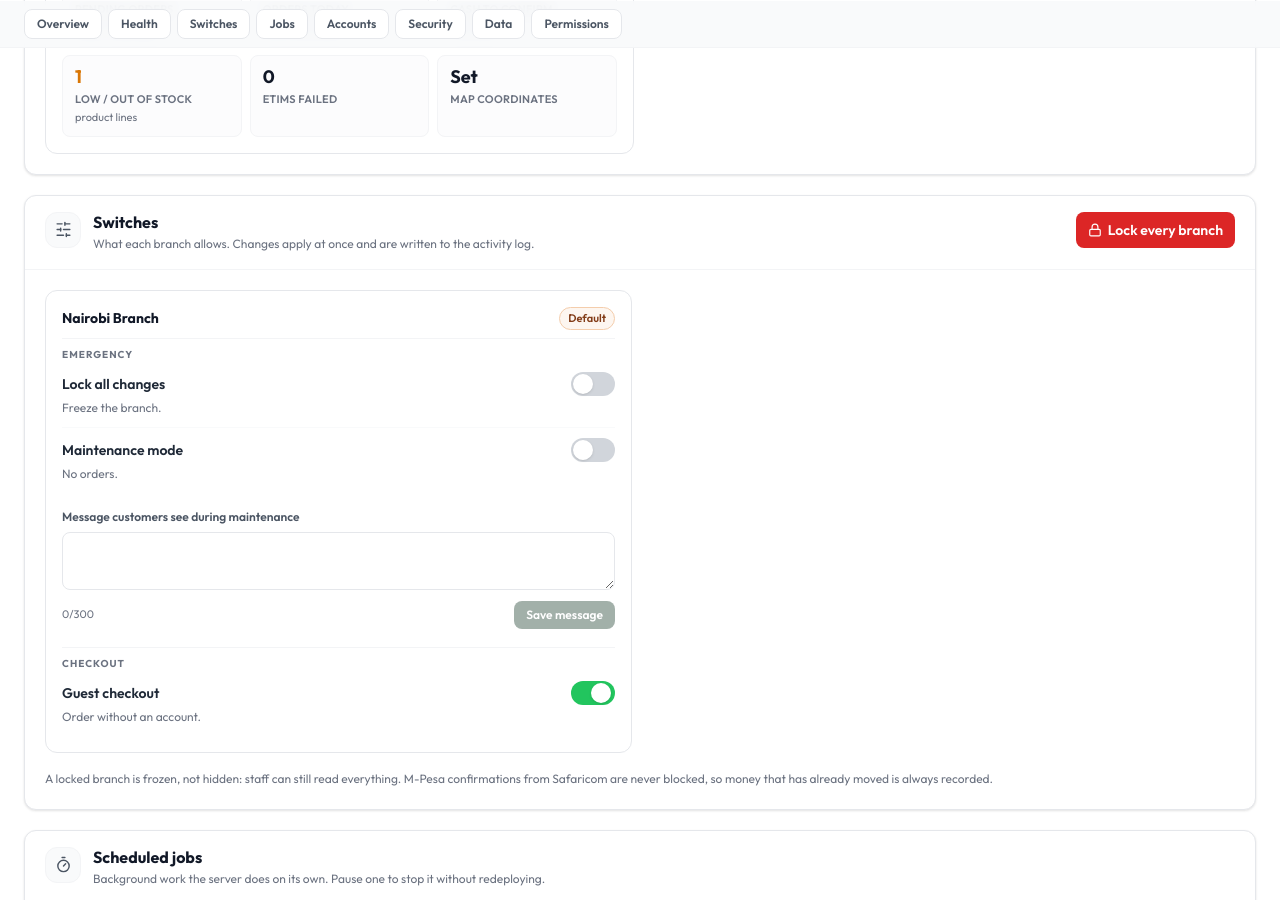
Test: ControlCenterPage › a wrong password keeps the dialog open with the server’s message and clears the field
(page scrolled)
Step 1. Click the switch named "Maintenance mode" in the row of "Maintenance mode" → (593, 450), box [571,438,615,462]
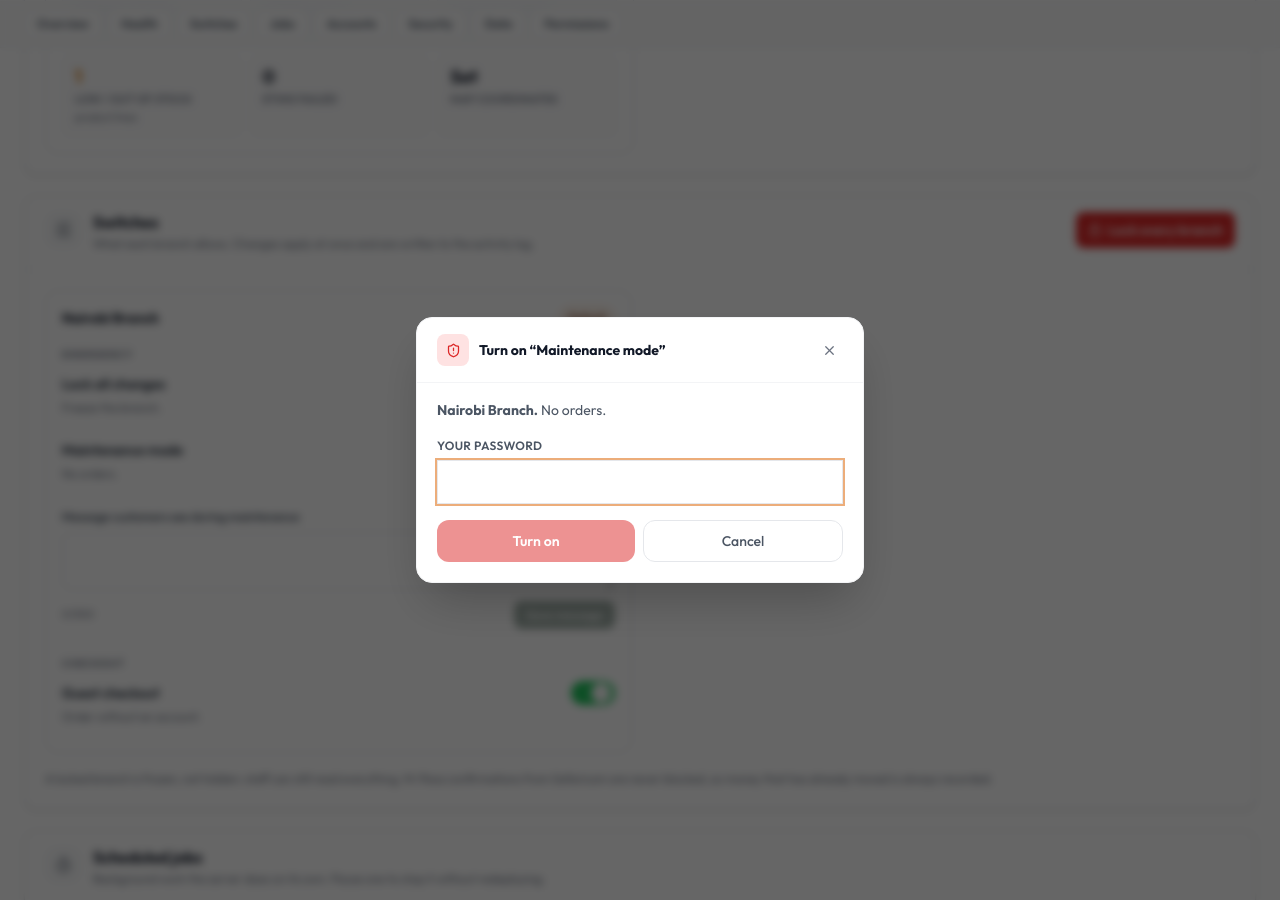
Step 2. Type "wrong" into the password field labelled "Your password" → (640, 482), box [437,460,843,504]
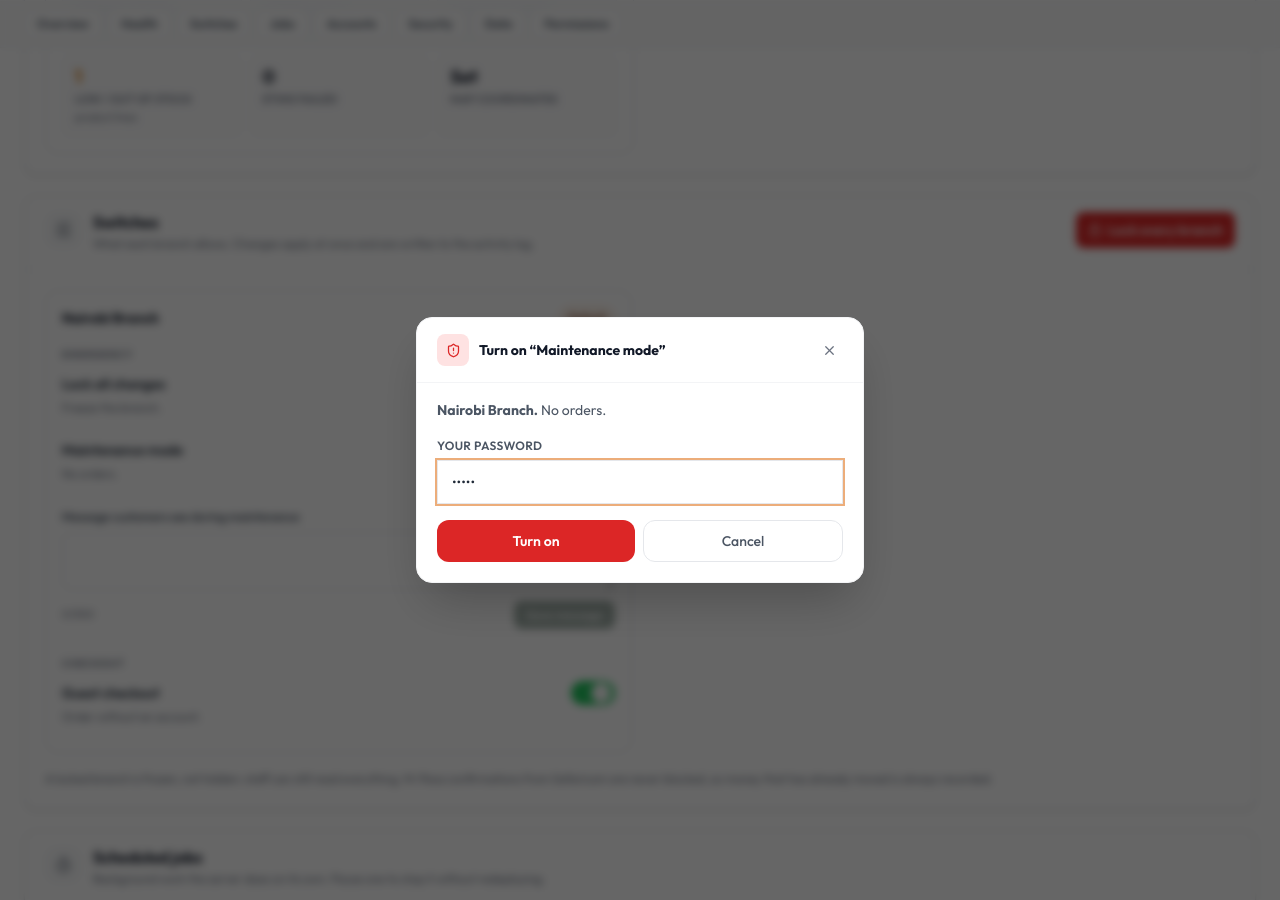
Step 3. Click the button "Turn on" → (536, 541), box [437,520,635,562]
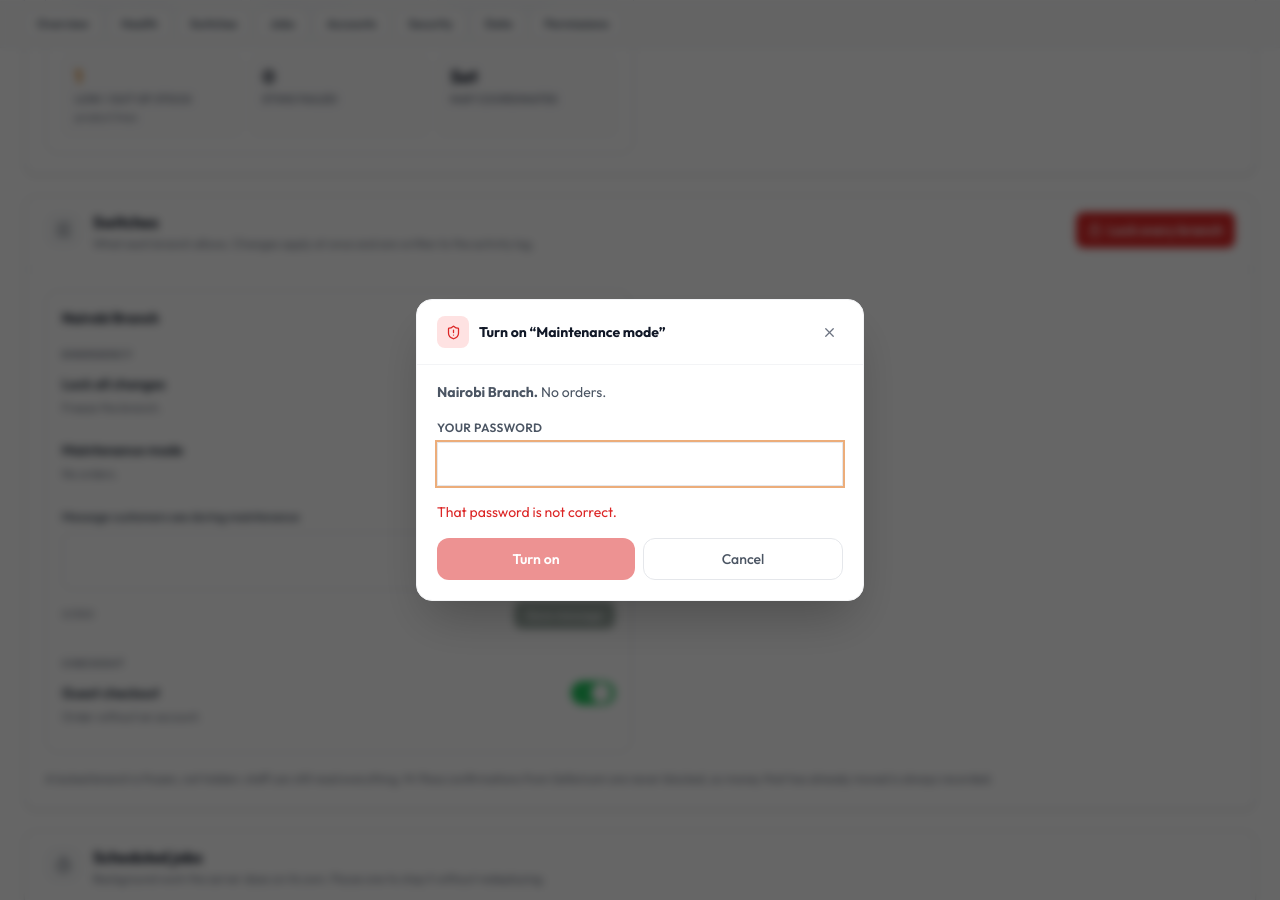
Check: the dialog is shown, box [416,299,864,601]
Check: the message reads "That password is not correct.", box [437,503,617,521]
Check: the password field labelled "Your password" is empty, box [437,442,843,486]
